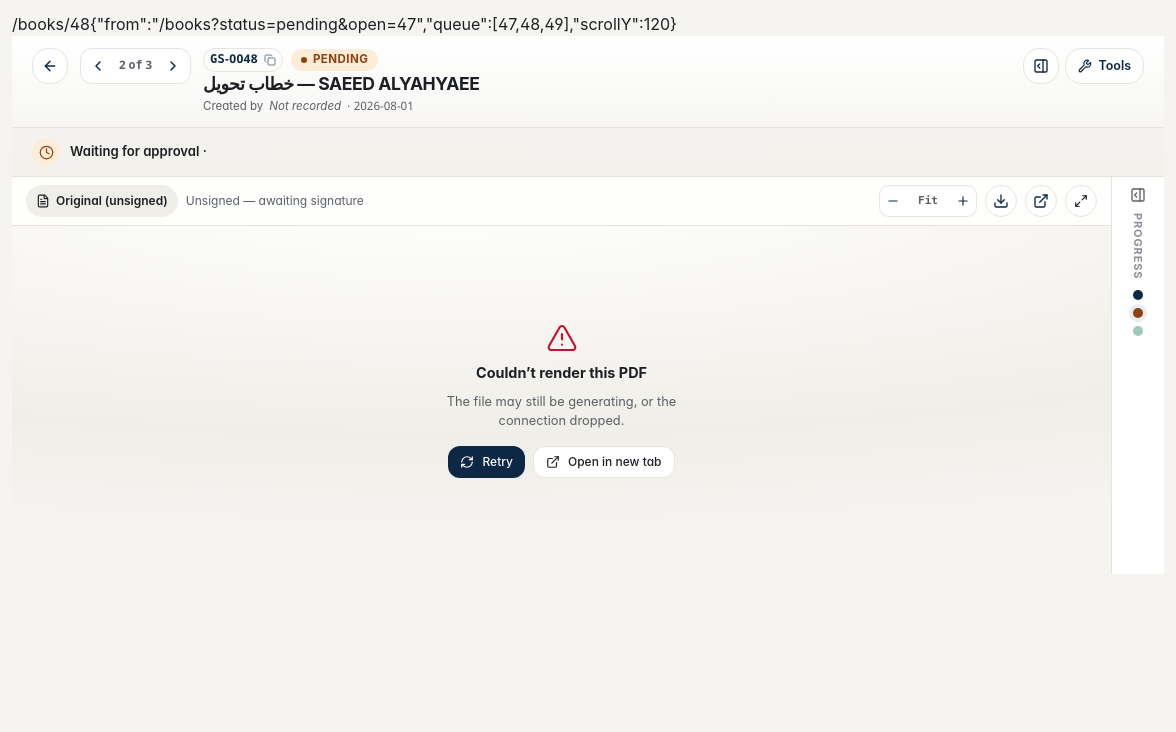
Test: BookRecordPage — J / K and Back › a click on the queue arrows steps the same way
The width and height of the screenshot is (1176, 732).
Click the button with test id "queue-next": (173, 66) x1=158 y1=51 x2=188 y2=81
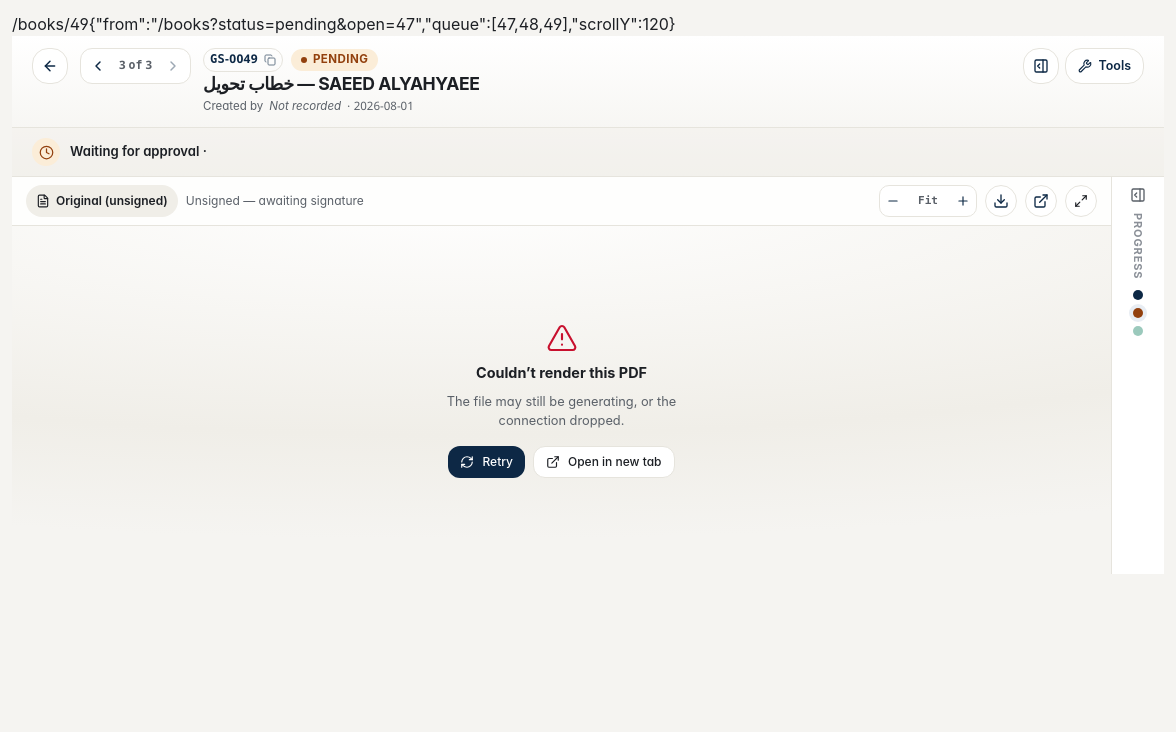
Check: the text with test id "loc" reads "/books/49", box x1=12 y1=14 x2=89 y2=34
